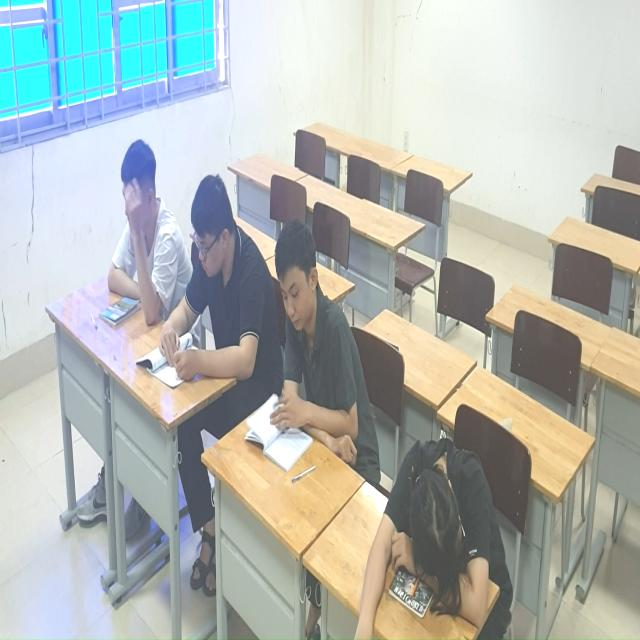raise_hand: (98, 136, 173, 345)
read: (243, 226, 382, 482), (158, 178, 270, 425)
sleep: (348, 439, 519, 640)
